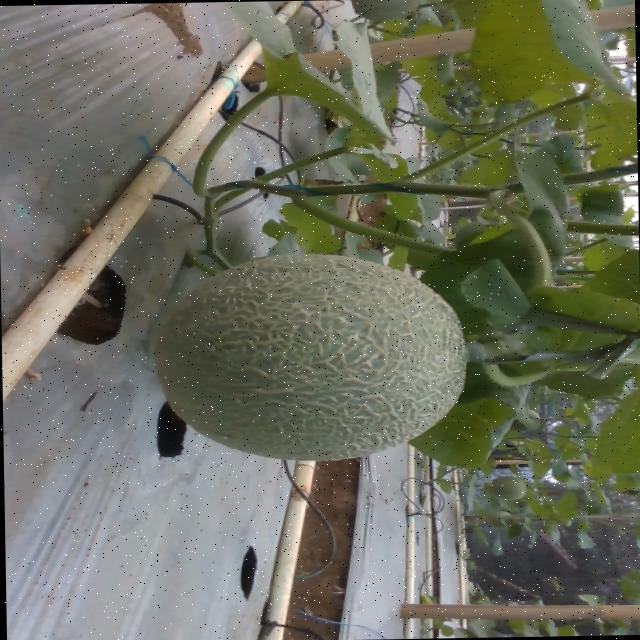melon: (153, 254, 465, 461)
